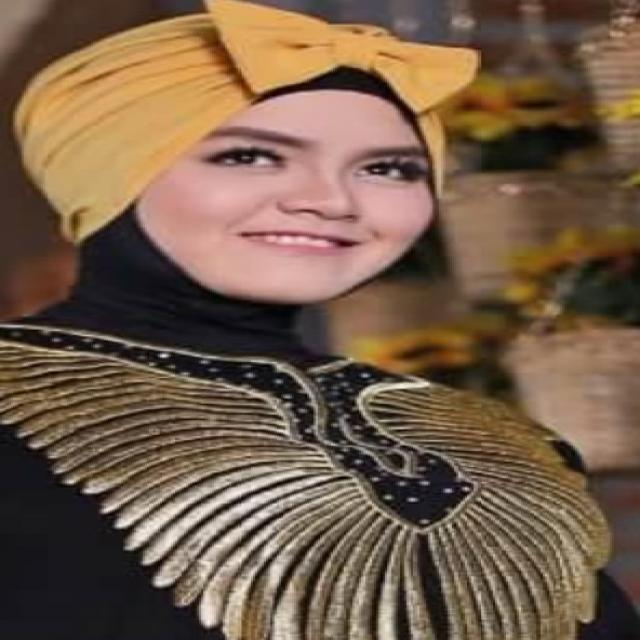head: (47, 30, 445, 308)
